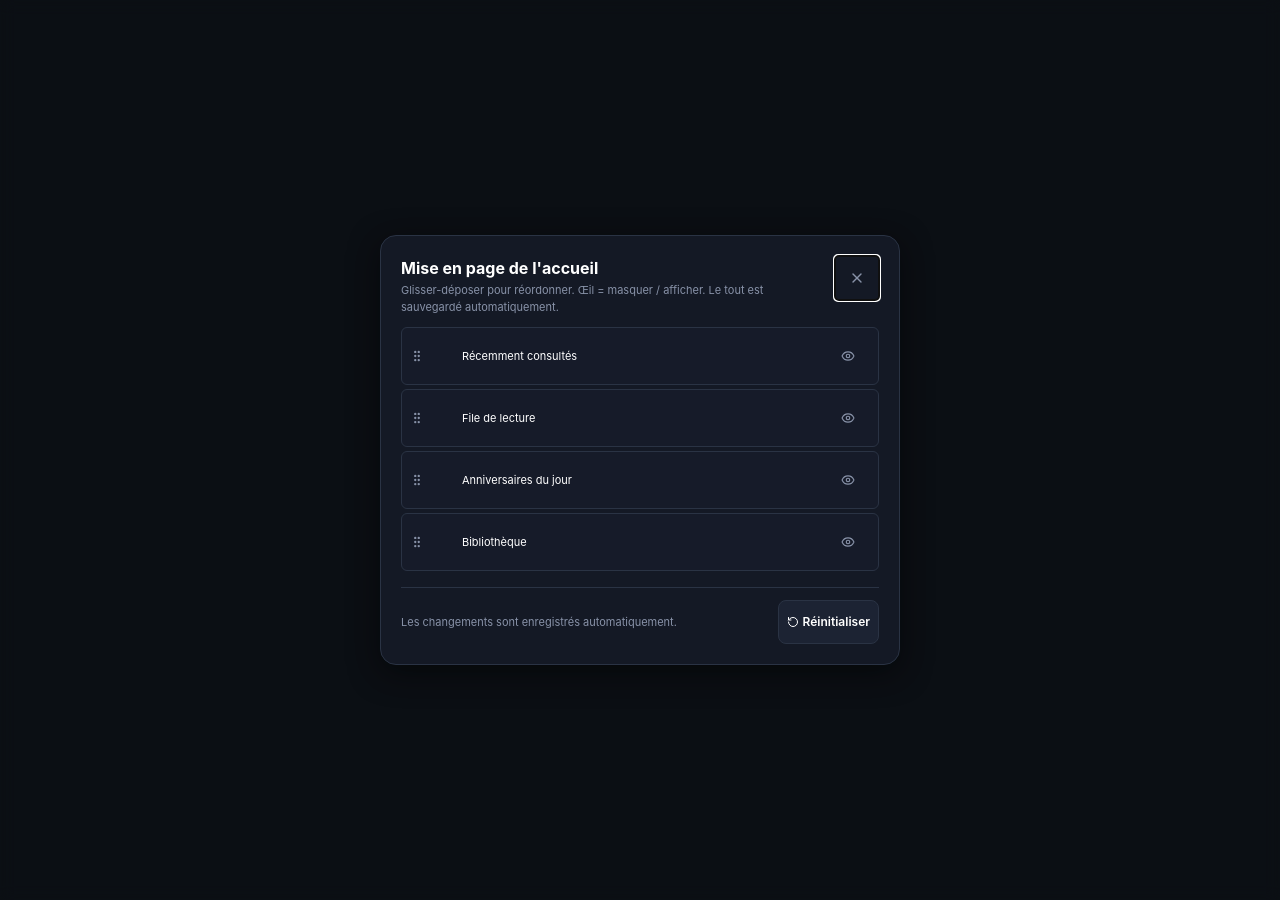
Test: HomeLayoutEditorTrigger › toasts and keeps the dialog open when reset-all fails
Click the button "Réinitialiser": (828, 622) [778,600,879,644]
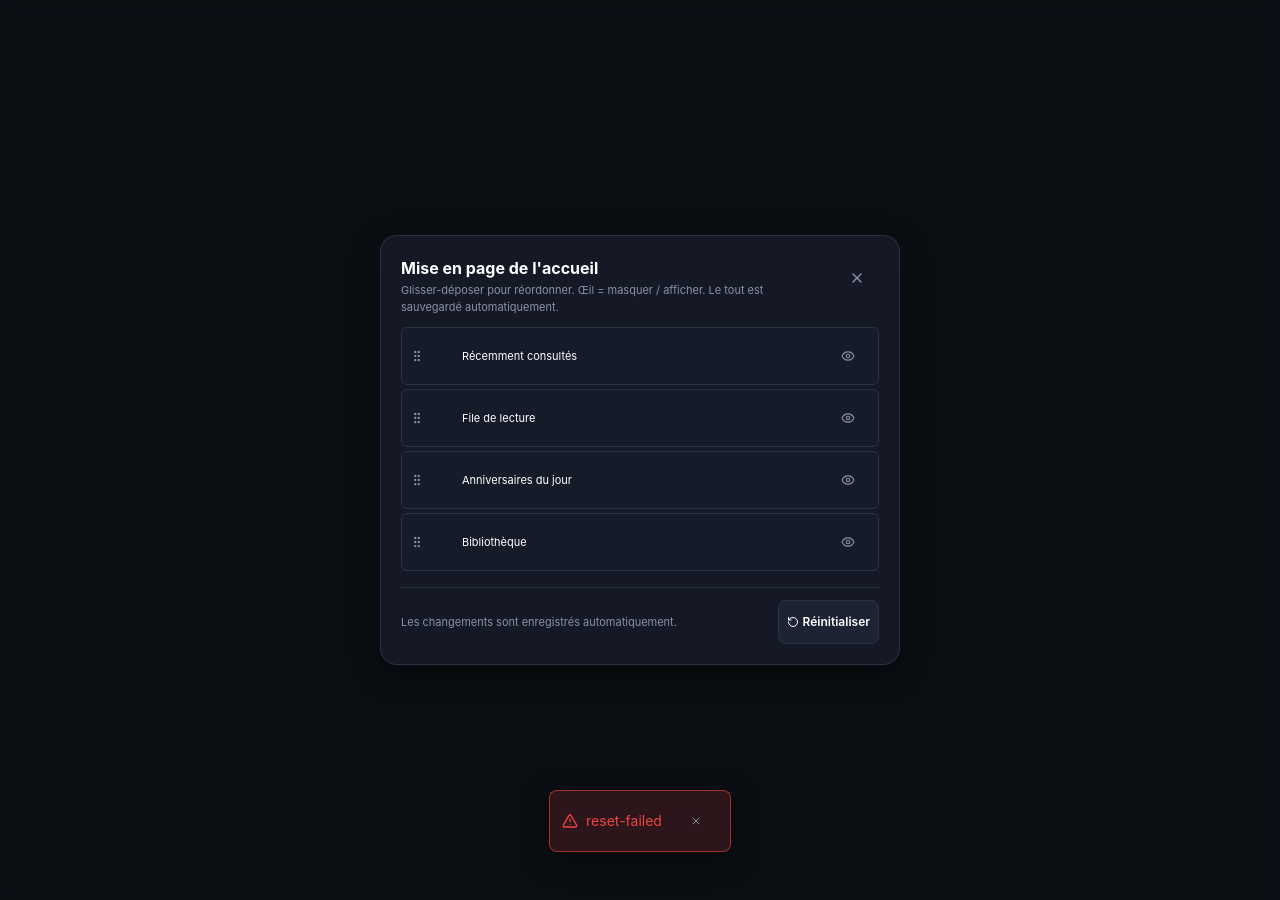
Expected: the dialog is shown, [380,235,900,665]
Result: the text "reset-failed" is shown at [586,811,662,831]
